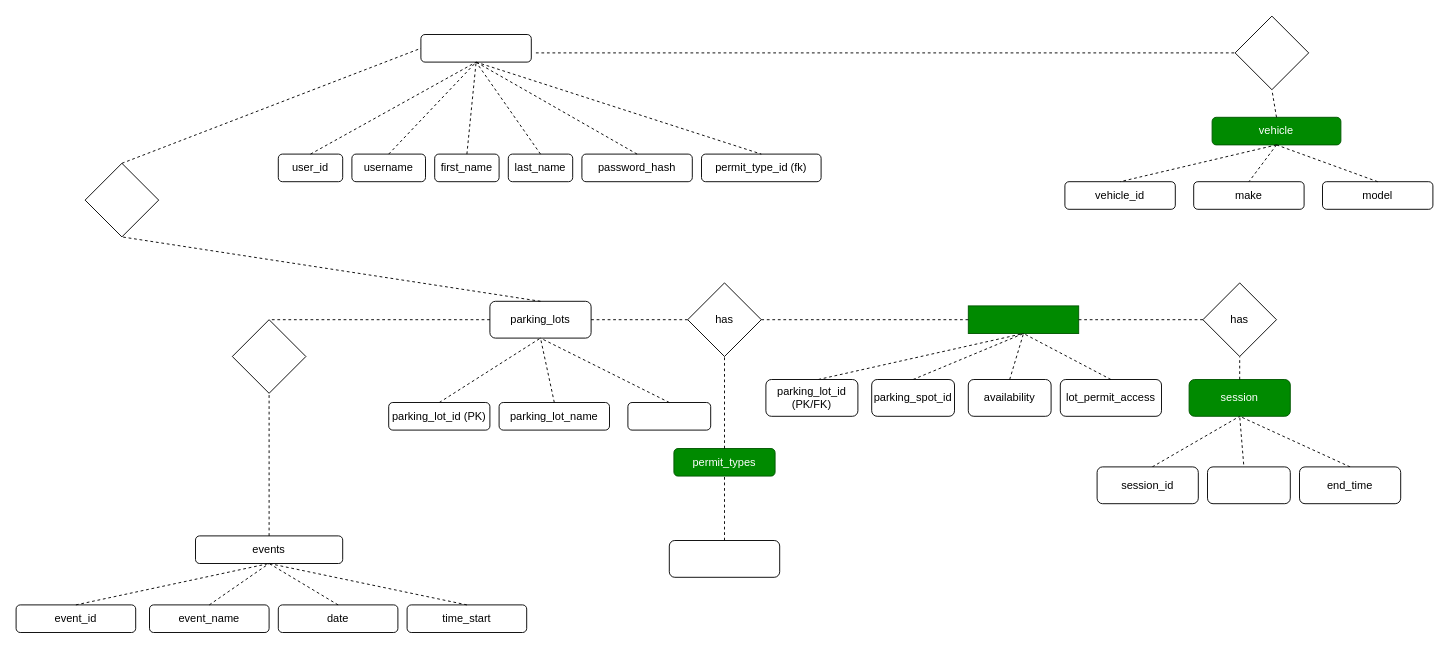
Some shapes in this 1449 by 649 pixel diagram are drawn without their labels. Each missing label, with the centre of its shape:
drives: pixel 1271 52
occupancy: pixel 669 416
parking_spots: pixel 1023 319
permit_type_id (PK): pixel 724 558
restricted_by: pixel 268 356
start_time: pixel 1248 485
user: pixel 475 48
uses: pixel 121 199
